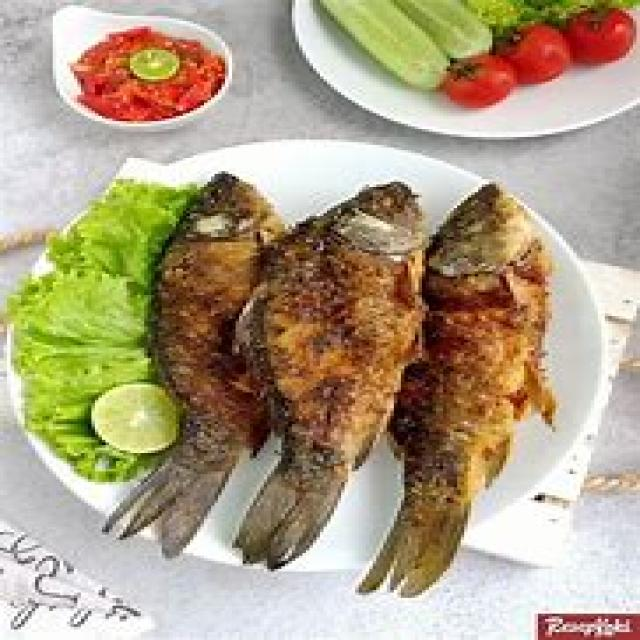Ikan Goreng: (280, 144, 440, 592), (432, 170, 576, 588), (162, 157, 276, 554)
